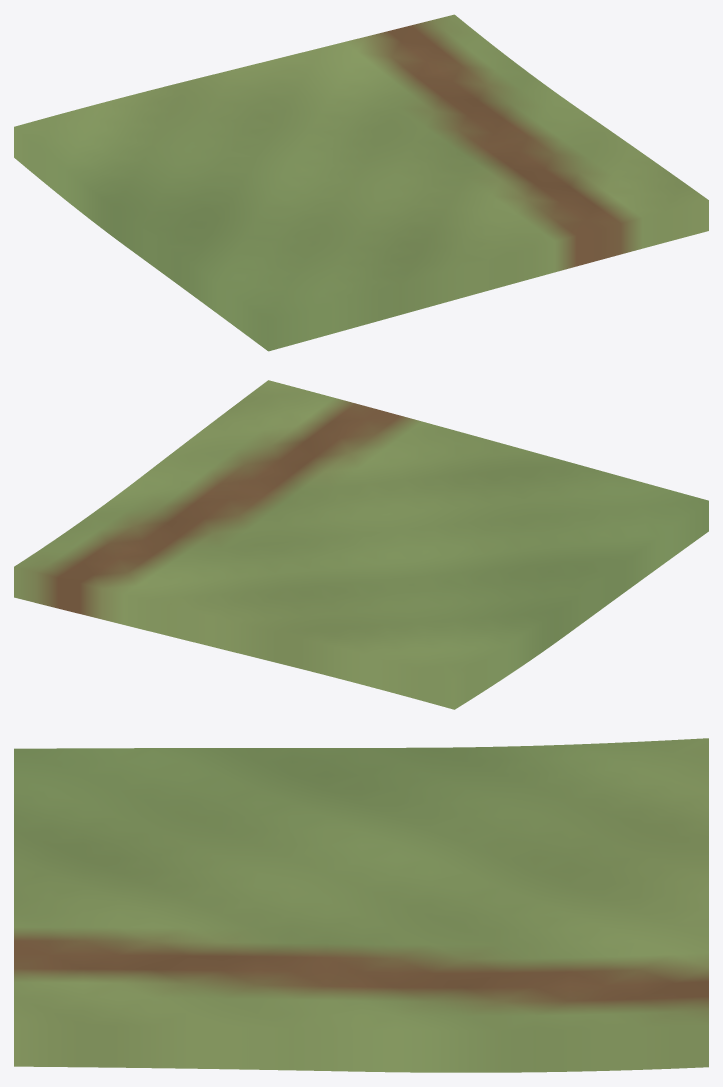
3 views of the same model, one above another, from view 1: azimuth 30°, elevation 25°; view 2: azimuth 150°, elevation 25°; view 3: azimuth 270°, elevation 25° (orthographic). The views are drawn at different scales.
Parts seen in each view (by area): view 1: terrain; view 2: terrain; view 3: terrain.
Part boxes in pixels (x1,y1,x2,y2): terrain: (14,14,708,351); terrain: (14,380,708,709); terrain: (14,738,708,1072).
Size of the model in its own units: 30 by 2.85 by 30.
